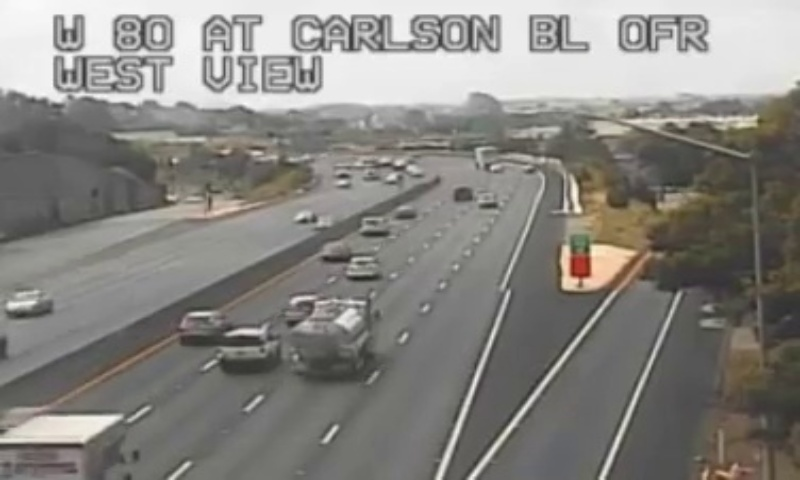car: (217, 326, 278, 366), (176, 310, 231, 337), (344, 256, 378, 277), (359, 216, 389, 234), (321, 241, 348, 259)
small-truck: (2, 413, 127, 480)
tank-truck: (289, 297, 376, 378)
